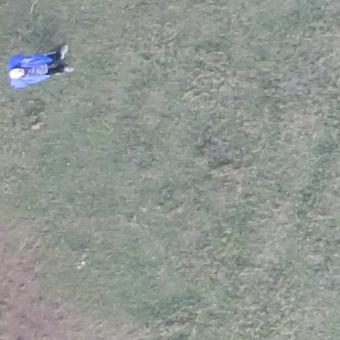human: (6, 42, 73, 91)
